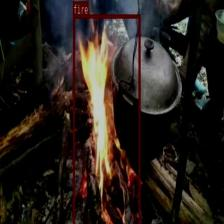fire: (72, 13, 139, 224)
